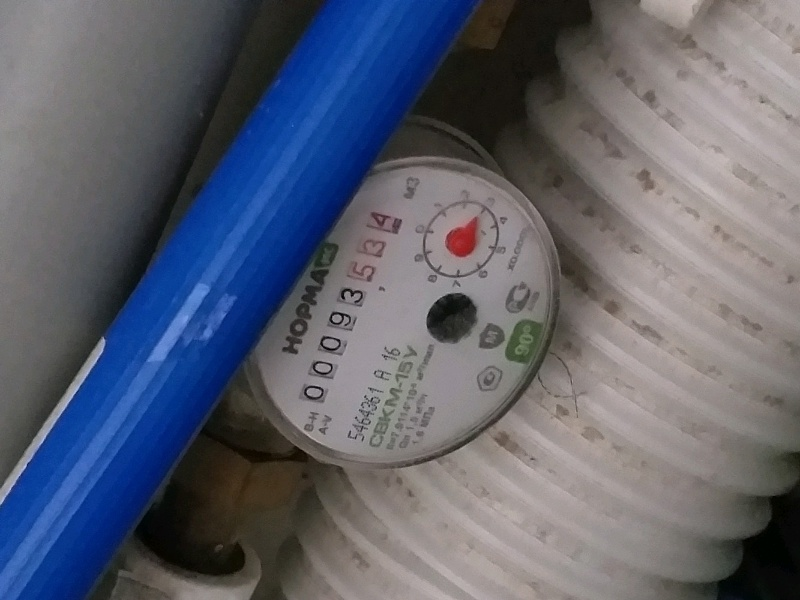meter: (305, 209, 416, 437)
